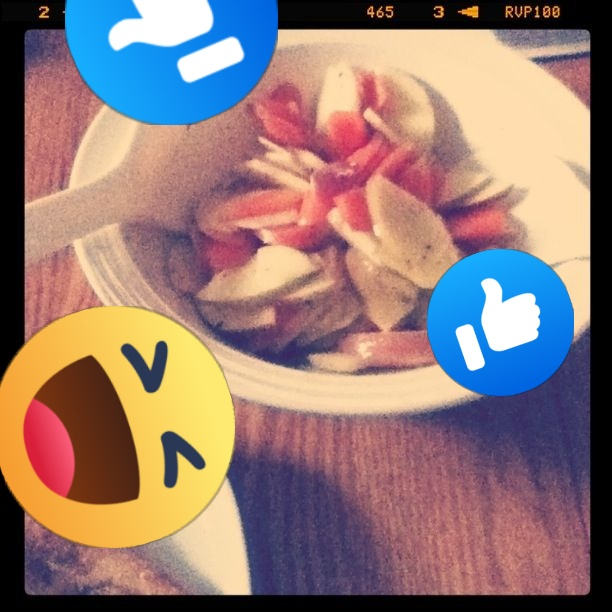haha: (0, 306, 235, 548)
like: (65, 0, 278, 125), (427, 249, 574, 396)
